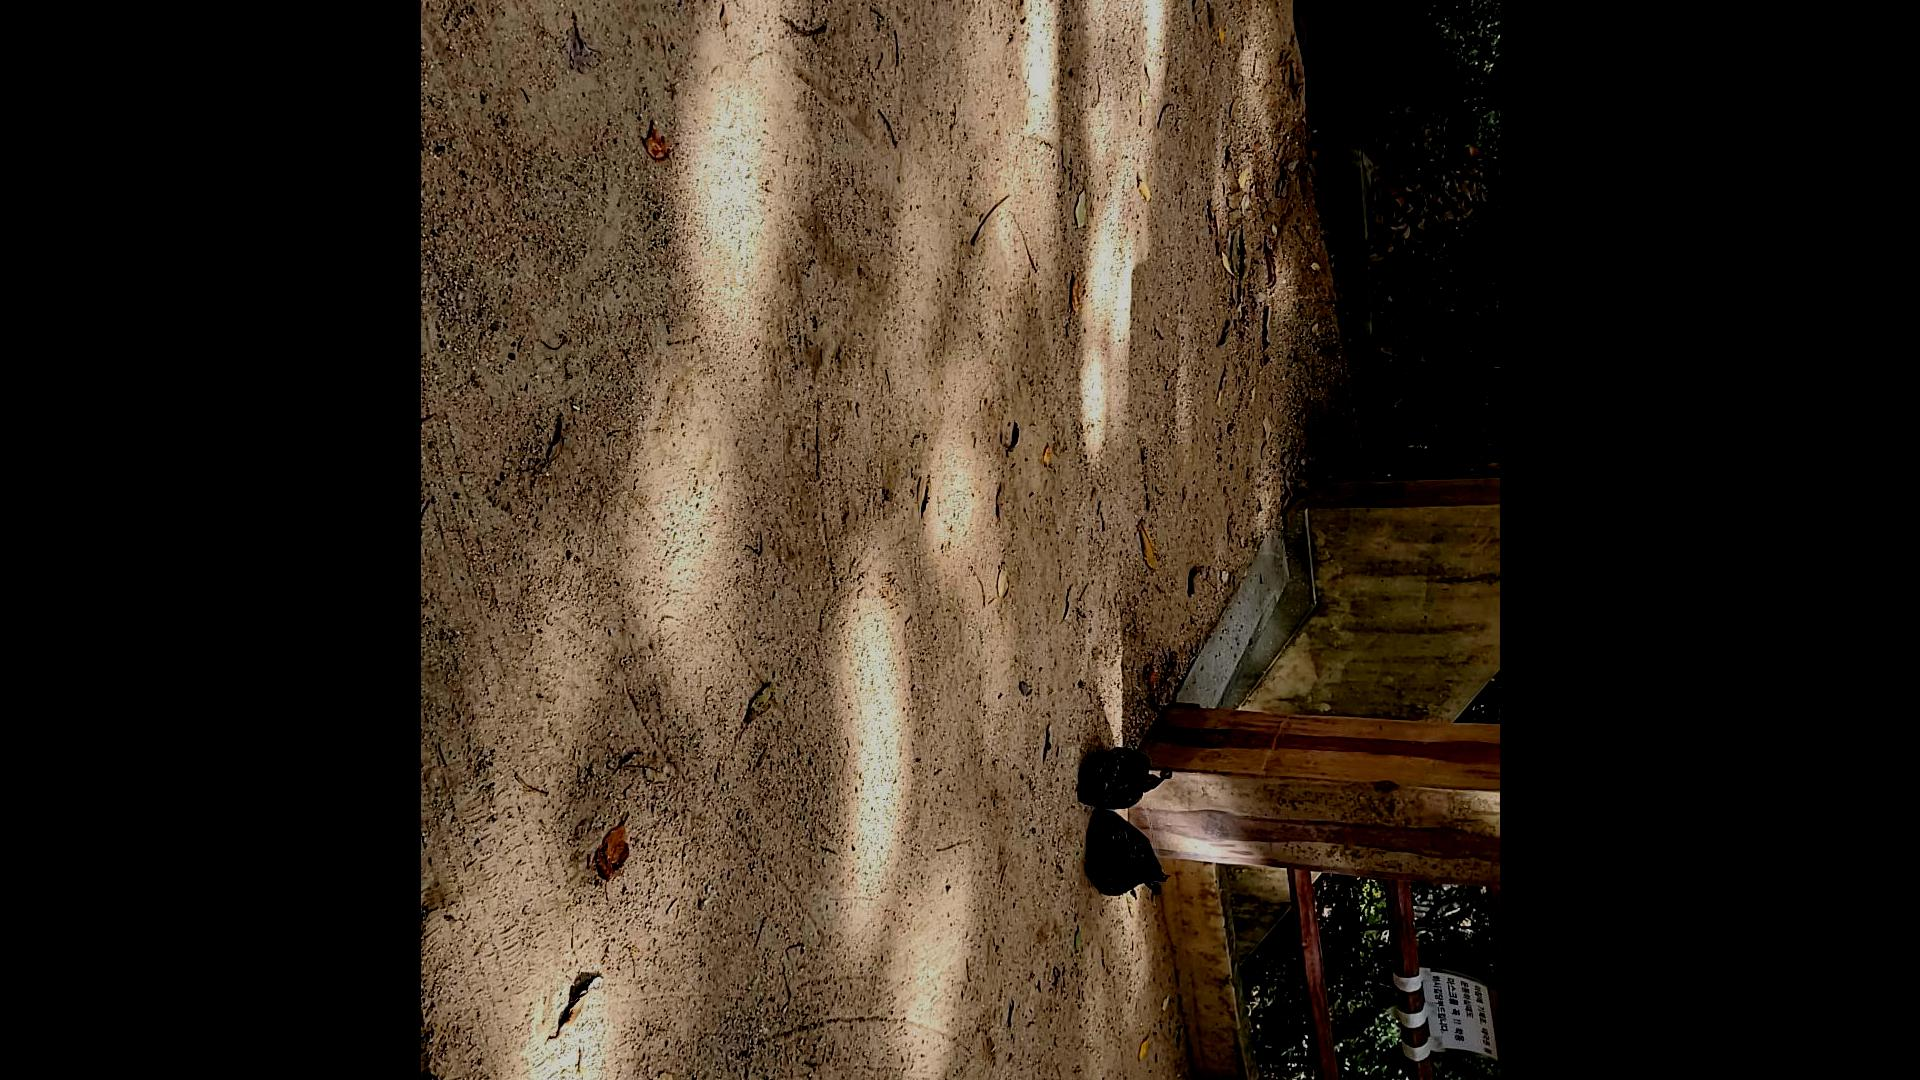black_bag: (1085, 807, 1171, 901), (1073, 740, 1178, 815)
